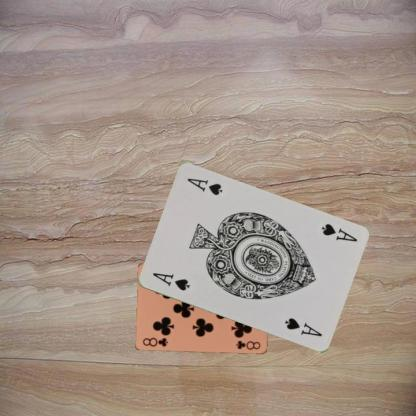8c: (140, 334, 170, 348)
As: (150, 270, 191, 292), (318, 221, 359, 243)
